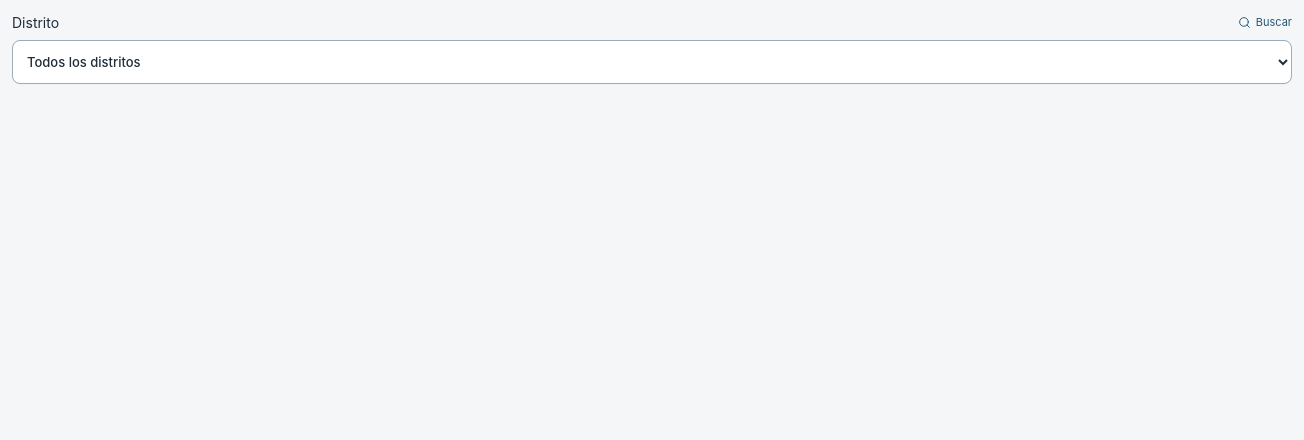
Test: territorial field › bounds rendered matches and disables both modes with their field
Later steps or results of the test are not shown.
Step 1. Click the button with aria-label "Buscar distrito" → coordinates (1262, 23), box x1=1233 y1=11 x2=1292 y2=34
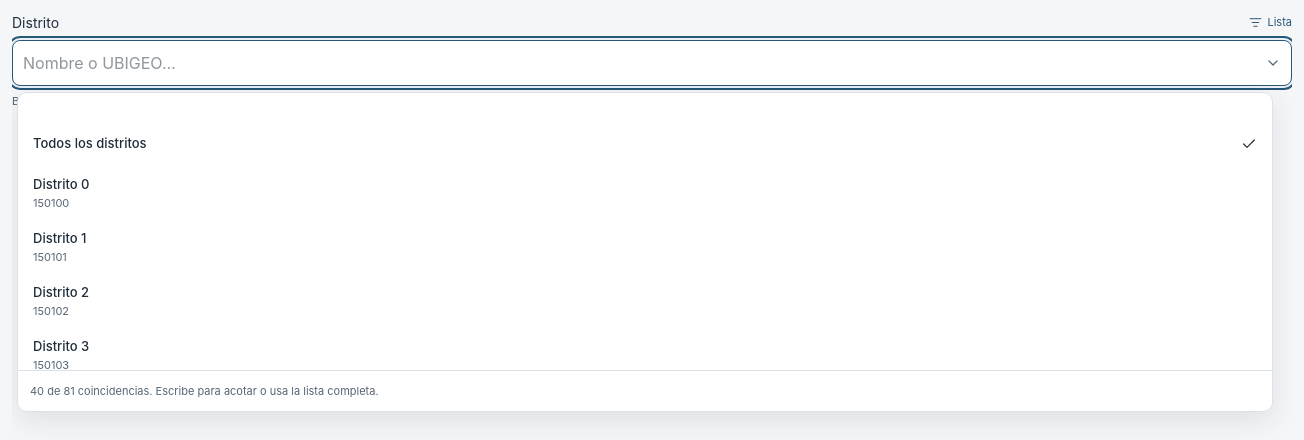
Expected: the dropdown with placeholder "Nombre o UBIGEO…" is shown, x1=13 y1=41 x2=1255 y2=85
Expected: the text "40 de 81 coincidencias. Escribe para acotar o usa la lista completa." is shown, x1=18 y1=370 x2=1272 y2=411
